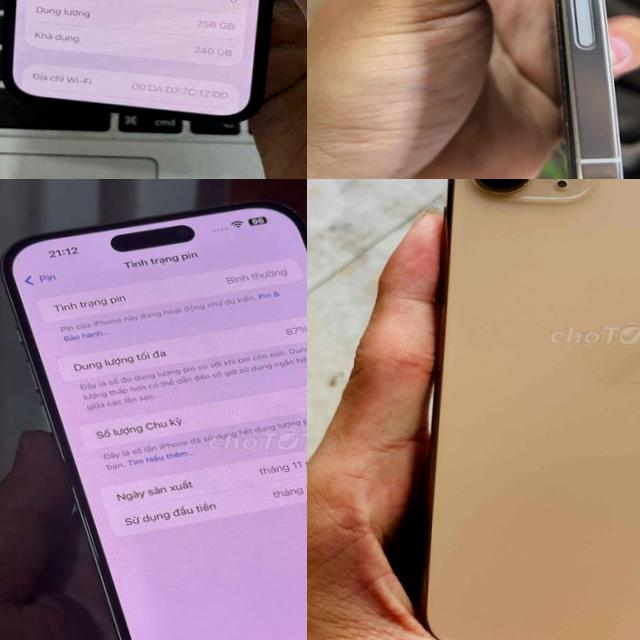gen_11: (417, 179, 640, 640)
gen_12_13: (6, 0, 302, 125)
gen_15: (0, 199, 307, 640)
gen_16: (554, 0, 623, 179)
scratch: (596, 168, 640, 179), (584, 0, 614, 16)
